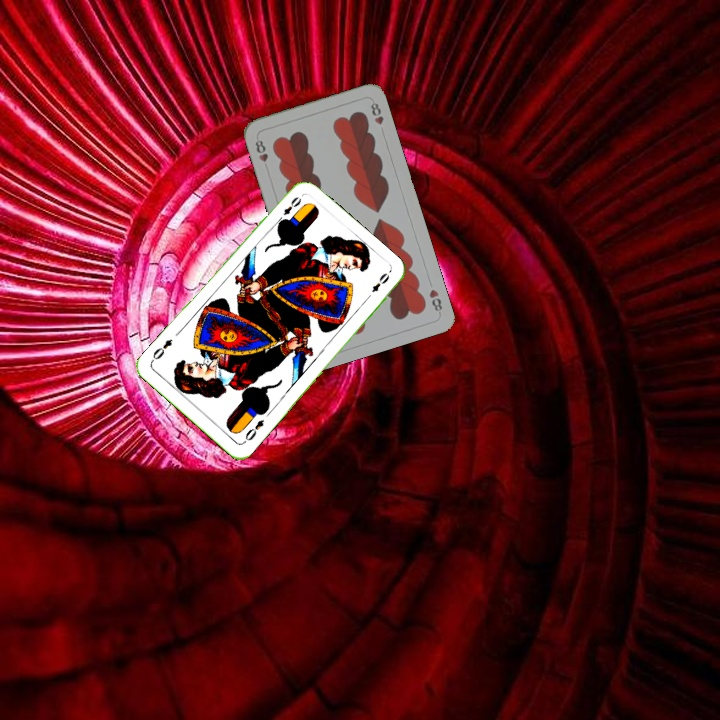EO: (273, 192, 304, 225), (241, 415, 267, 443)
H8: (251, 136, 271, 173), (425, 285, 445, 317)
